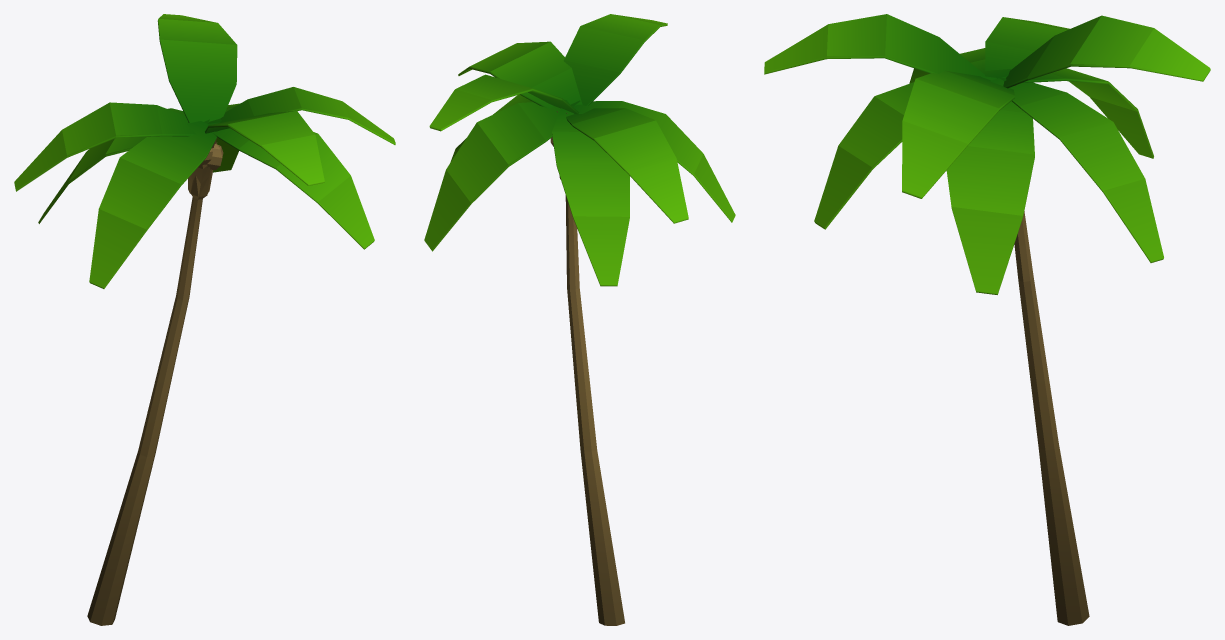
File: PalmTree.fbx
3 views of the same model, side by side, from view 1: azimuth 30°, elevation 25°; view 2: azimuth 150°, elevation 25°; view 3: azimuth 270°, elevation 25° (orthographic). The views are drawn at different scales.
Parts seen in each view (by area): view 1: TreeTypeOne; view 2: TreeTypeOne; view 3: TreeTypeOne.
Part boxes in pixels (x1,y1,x2,y2): TreeTypeOne: [14, 14, 395, 625]; TreeTypeOne: [424, 14, 735, 625]; TreeTypeOne: [764, 14, 1210, 625].
Bounding box in the file's own units: 500 × 854 × 536.
